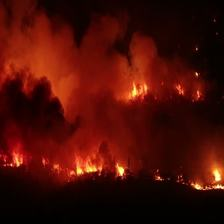fire: (10, 119, 224, 196), (105, 47, 202, 104)
